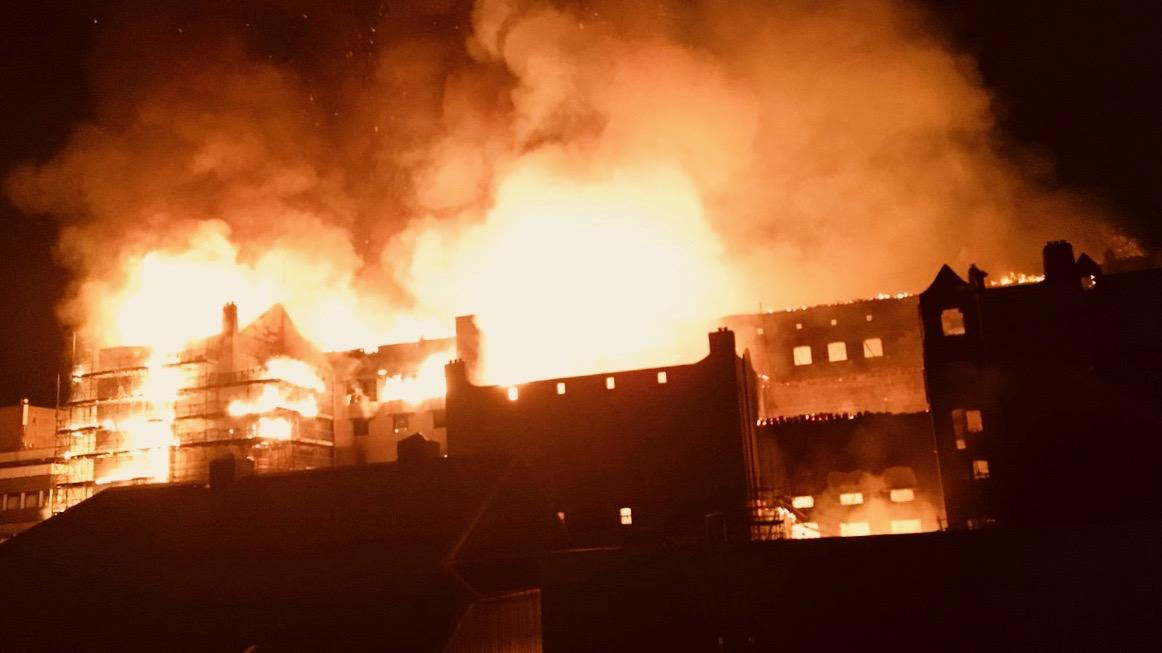fire: (131, 254, 708, 406)
smoke: (675, 34, 920, 226)
